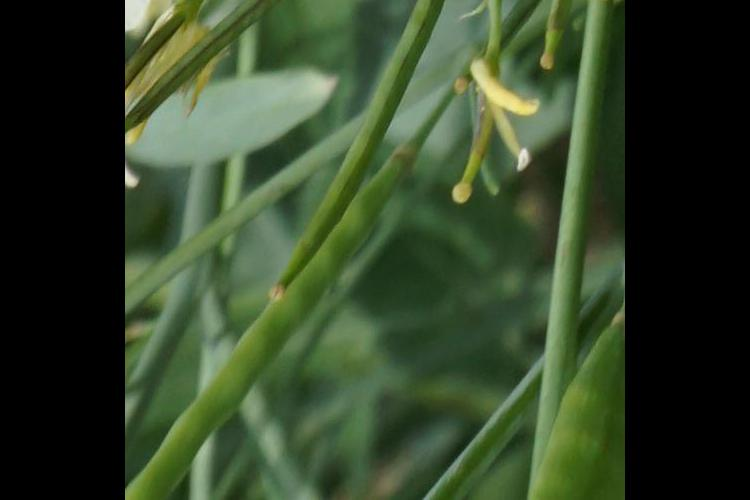pod: (446, 66, 532, 205), (515, 1, 587, 79)
